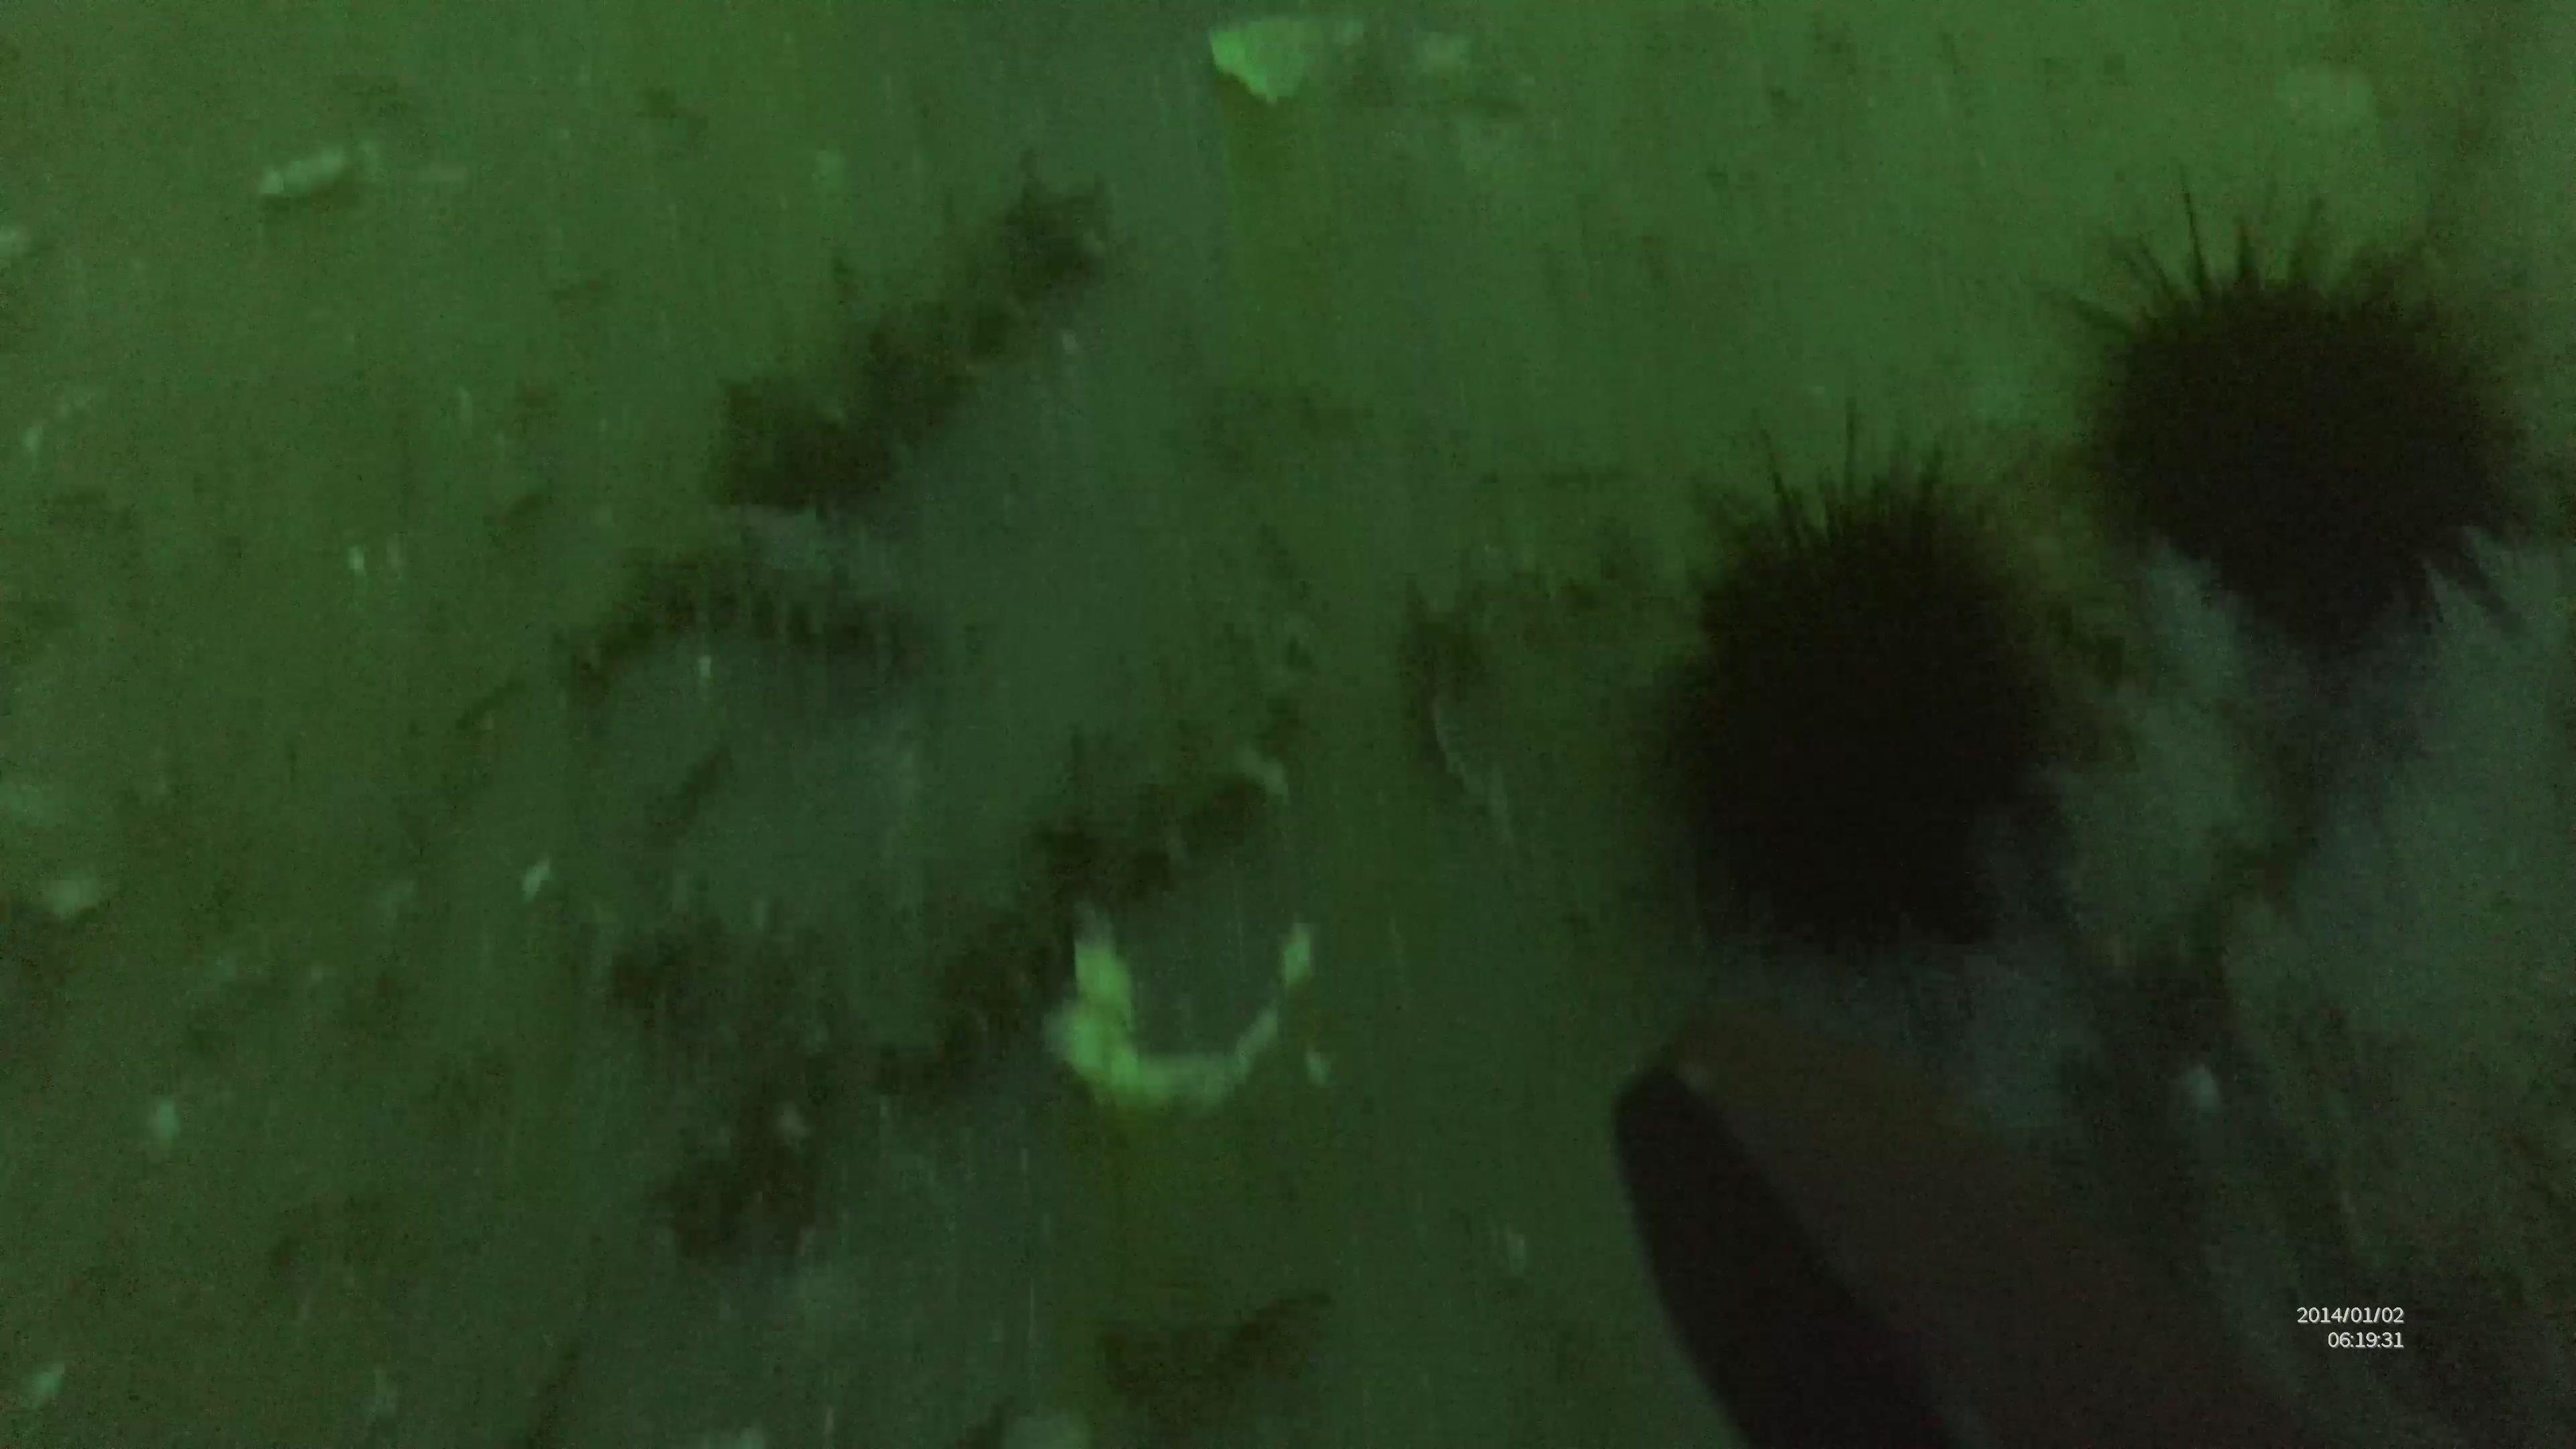echinus: (2070, 166, 2576, 655), (1645, 403, 2082, 939)
holothurian: (872, 596, 1311, 1067), (717, 163, 1113, 501), (584, 883, 844, 1244), (557, 502, 927, 708)
